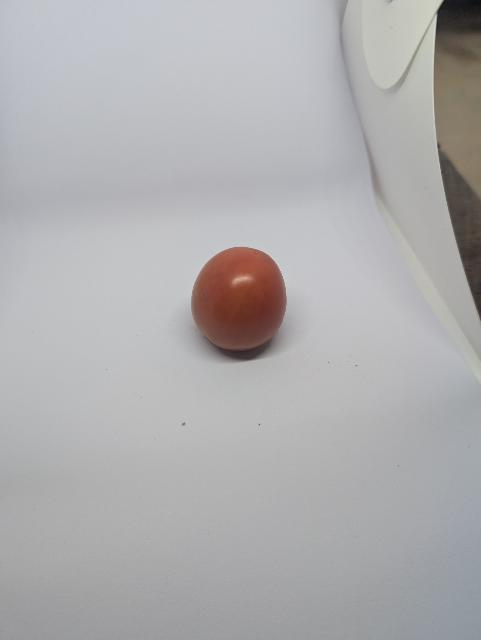red: (176, 233, 307, 365)
